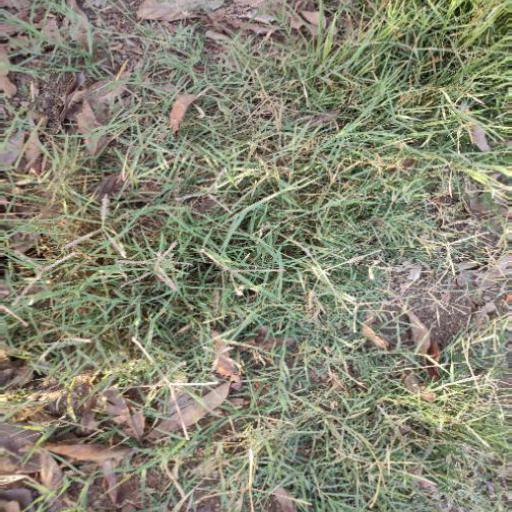weed: (73, 69, 488, 493)
